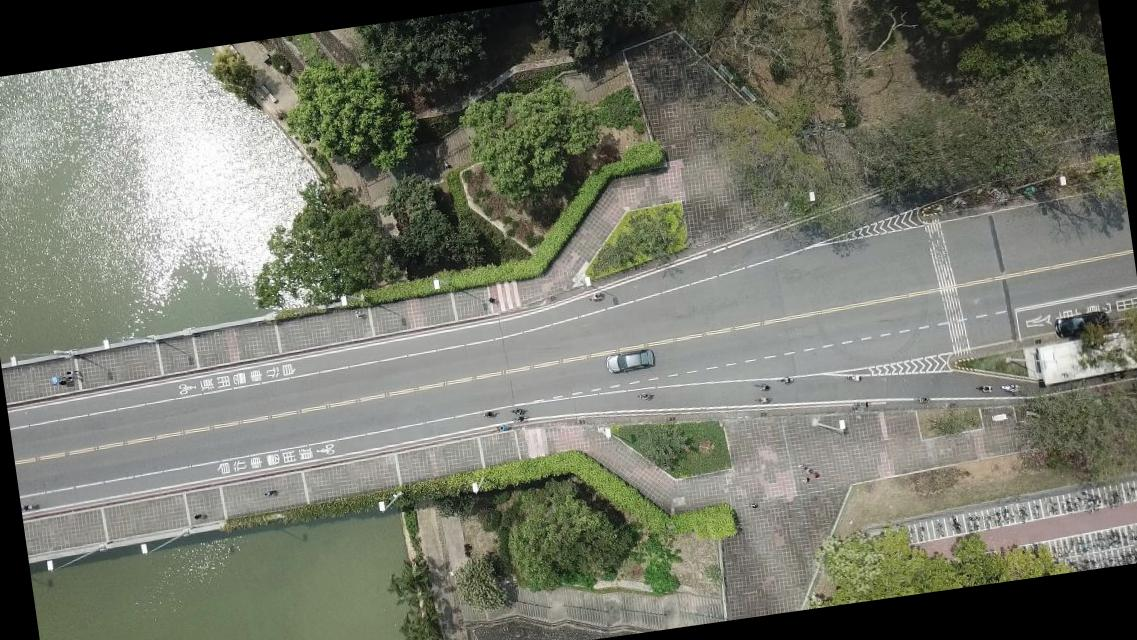vehicle: (1053, 310, 1110, 339), (604, 348, 656, 376)
